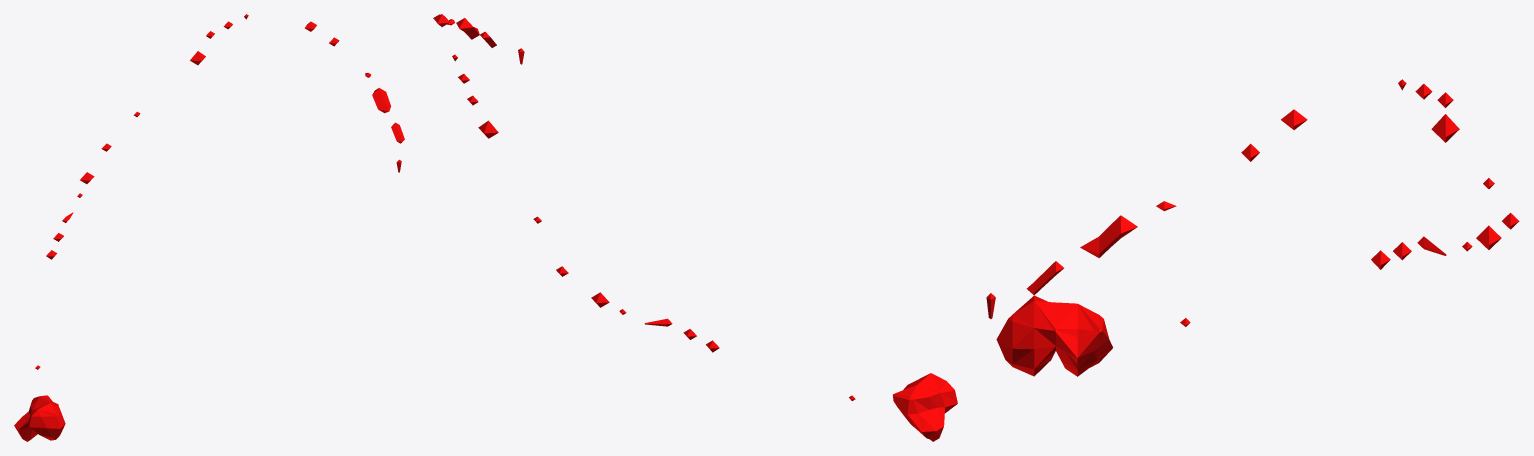
Rendered from thrA_coarse.dae.
The picture shows the model from 3 angles, left to right: view 1: azimuth 30°, elevation 25°; view 2: azimuth 150°, elevation 25°; view 3: azimuth 270°, elevation 25°; orthographic projection. The views are drawn at different scales.
Parts seen in each view (by area): view 1: thrA; view 2: thrA; view 3: thrA.
Boxes of the visible parts, bbox=[...] form: thrA: bbox=[14, 14, 404, 441]; thrA: bbox=[433, 14, 957, 441]; thrA: bbox=[986, 79, 1519, 376].
Size of the model in its own units: 556 by 419 by 339.
